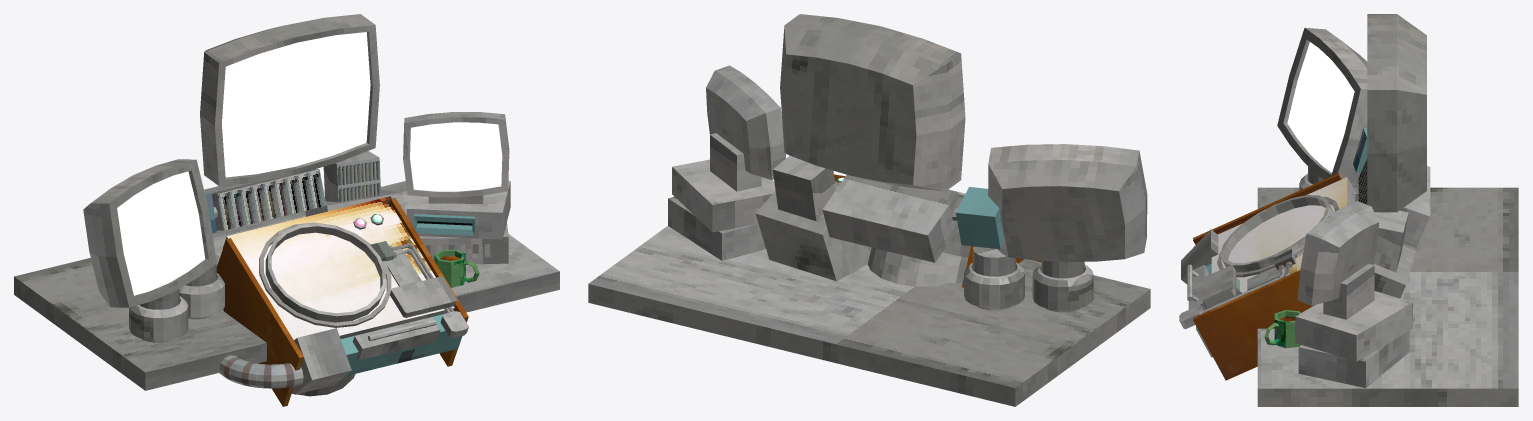
Rendered from McWork.glb.
The picture shows the model from 3 angles, left to right: view 1: azimuth 30°, elevation 25°; view 2: azimuth 150°, elevation 25°; view 3: azimuth 270°, elevation 25°; orthographic projection. The views are drawn at different scales.
Visible parts, largest first — view 1: Cube.012_Cube.016; view 2: Cube.012_Cube.016; view 3: Cube.012_Cube.016.
Part boxes in pixels (box(x1,y1,x2,y2)): Cube.012_Cube.016: box(14, 14, 559, 406); Cube.012_Cube.016: box(588, 14, 1150, 406); Cube.012_Cube.016: box(1179, 14, 1518, 406).
Size of the model in its own units: 9.74 by 6.82 by 6.62.
10 materials, 7 textured.
